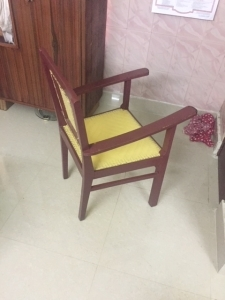chair: (39, 49, 198, 221)
